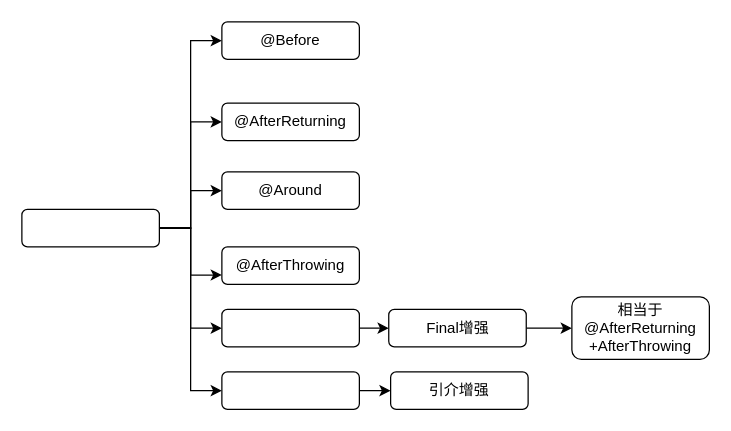
Image size: 731x431. Some labels were removed from this diagram. Each missing label, with the centre of its shape:
"@After" goes at point 290,327.
"@DeclareParents" goes at point 290,390.
"AspectJ增强类型" goes at point 90,227.
